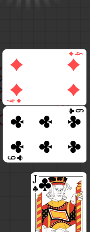4D: (67, 51, 83, 58)
5C: (6, 154, 23, 162)
